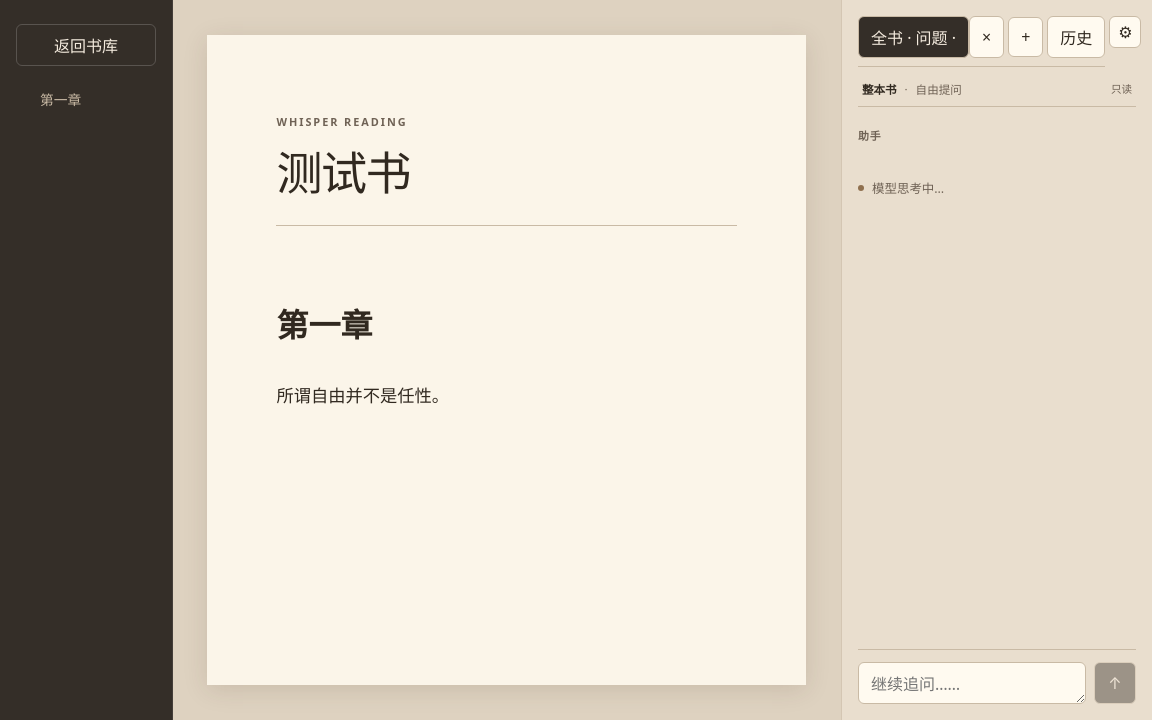
Test: ReaderPage 会话编排 › 关闭生成中的 Tab 后仍接收 chunk 和 done
Click the button named "关闭“全书 · 问题”".
click(987, 37)  # box [969,16,1004,58]
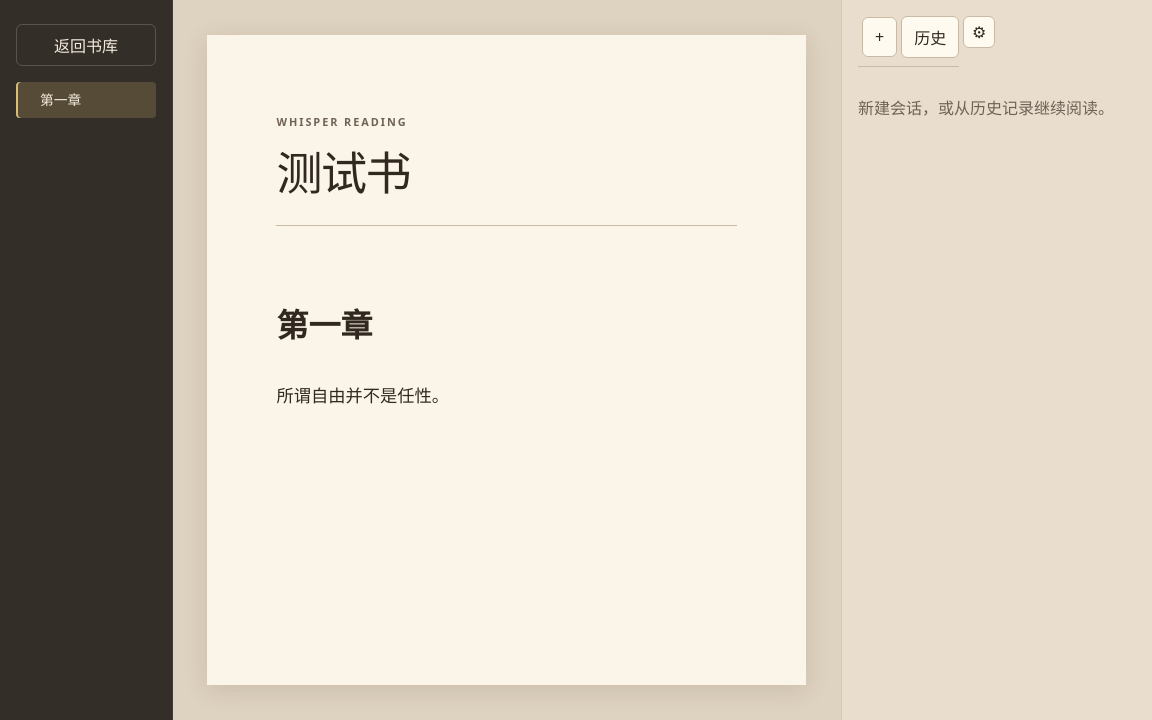
Click the button "历史".
click(930, 37)  # box [901,16,959,58]
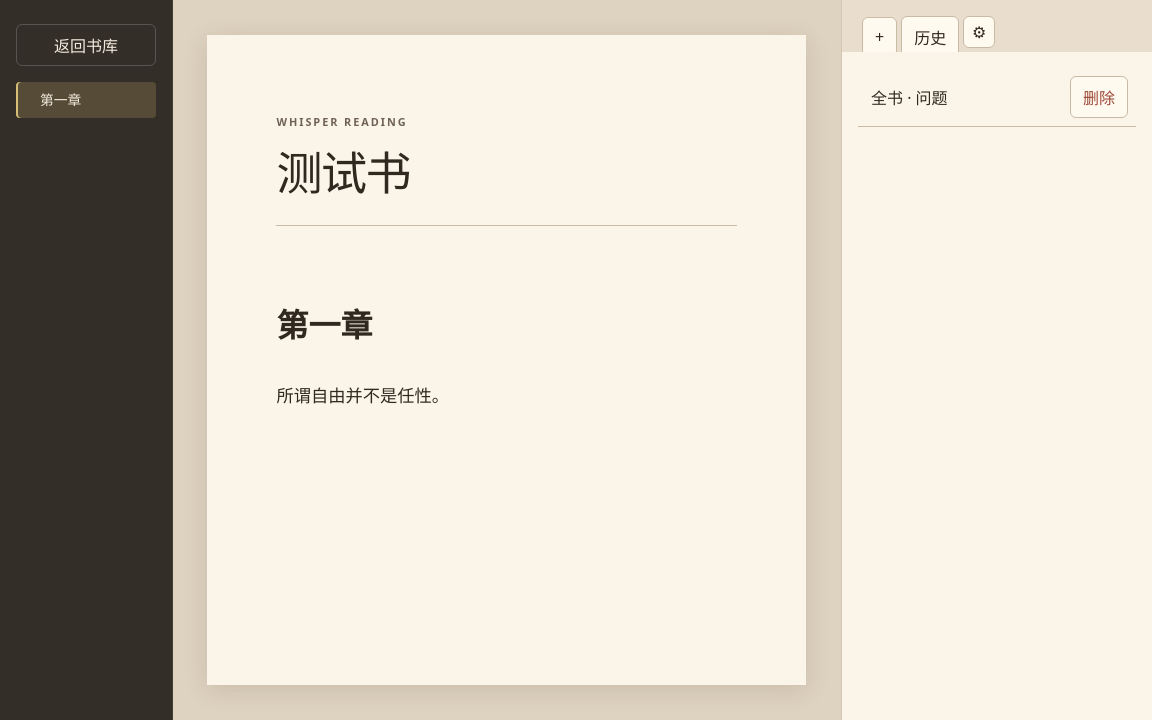
Expected: the button "全书 · 问题" is shown
Click the button "全书 · 问题".
click(960, 97)  # box [858,76,1062,118]
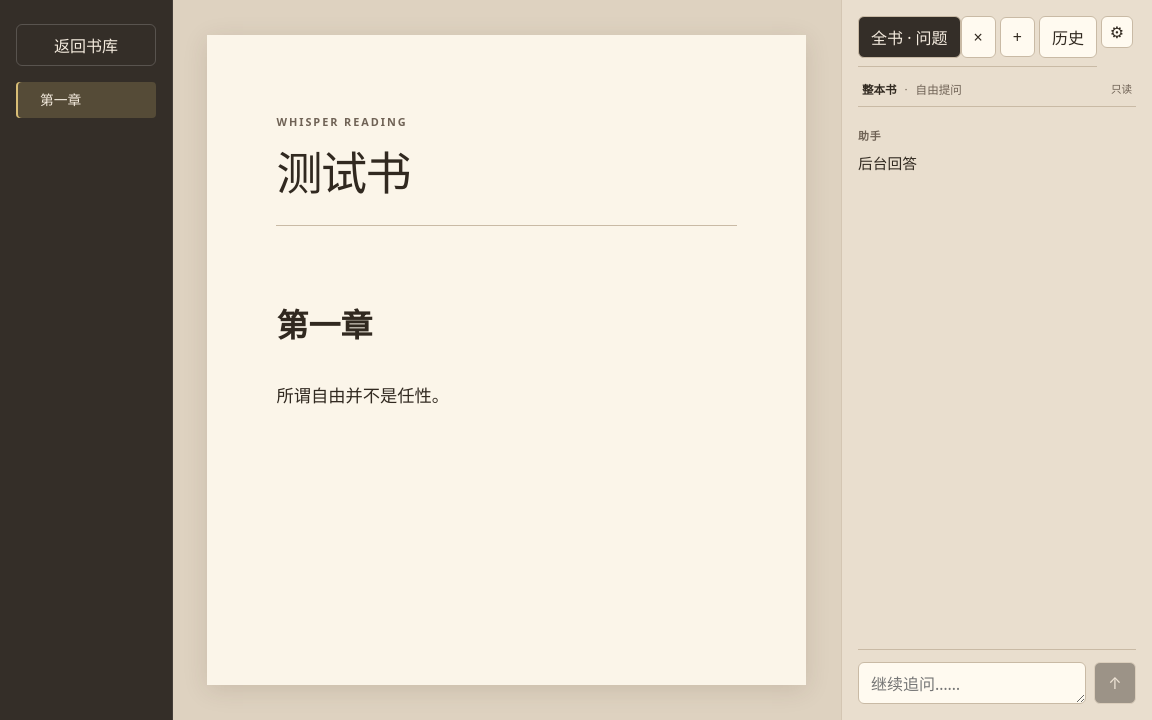
Expected: the text "后台回答" is shown, [858,153,917,173]
